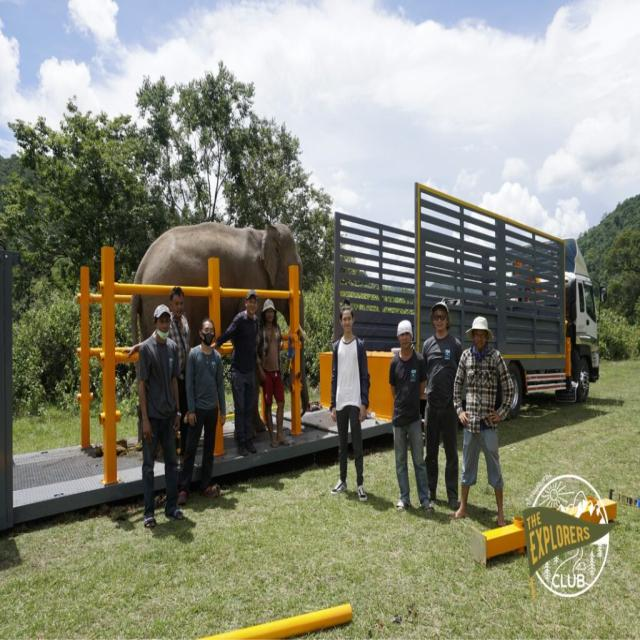Elephant: (124, 187, 316, 355)
person: (446, 314, 512, 518), (139, 307, 187, 534), (418, 296, 466, 499), (232, 288, 287, 452), (328, 303, 371, 502), (181, 317, 228, 491), (388, 318, 431, 507), (225, 290, 264, 433)
